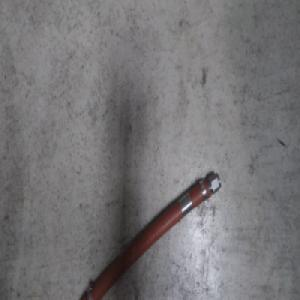Hose: (74, 169, 221, 300)
